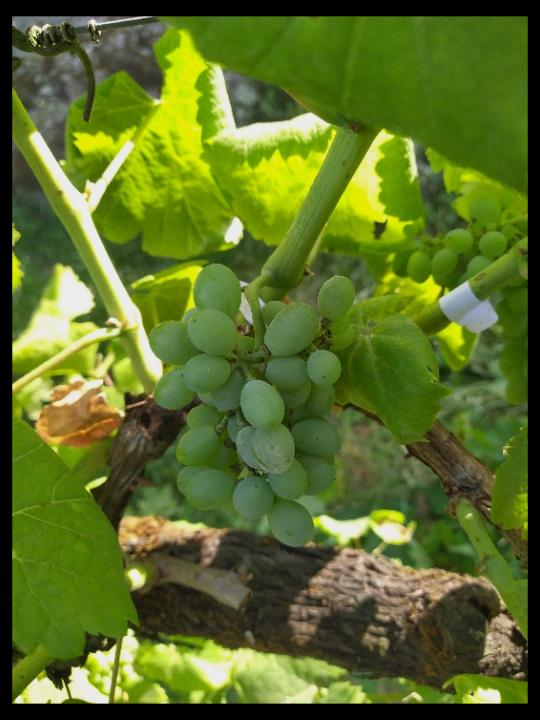grape: (146, 263, 359, 552)
